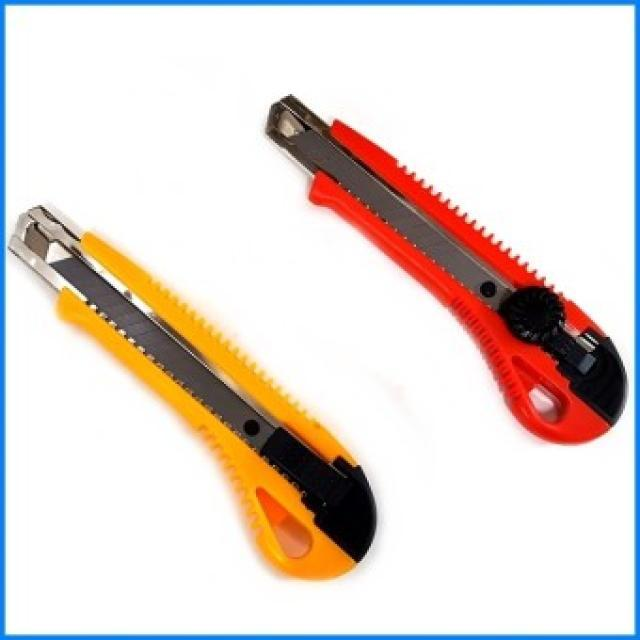cutter: (0, 177, 393, 589), (254, 76, 640, 467)
